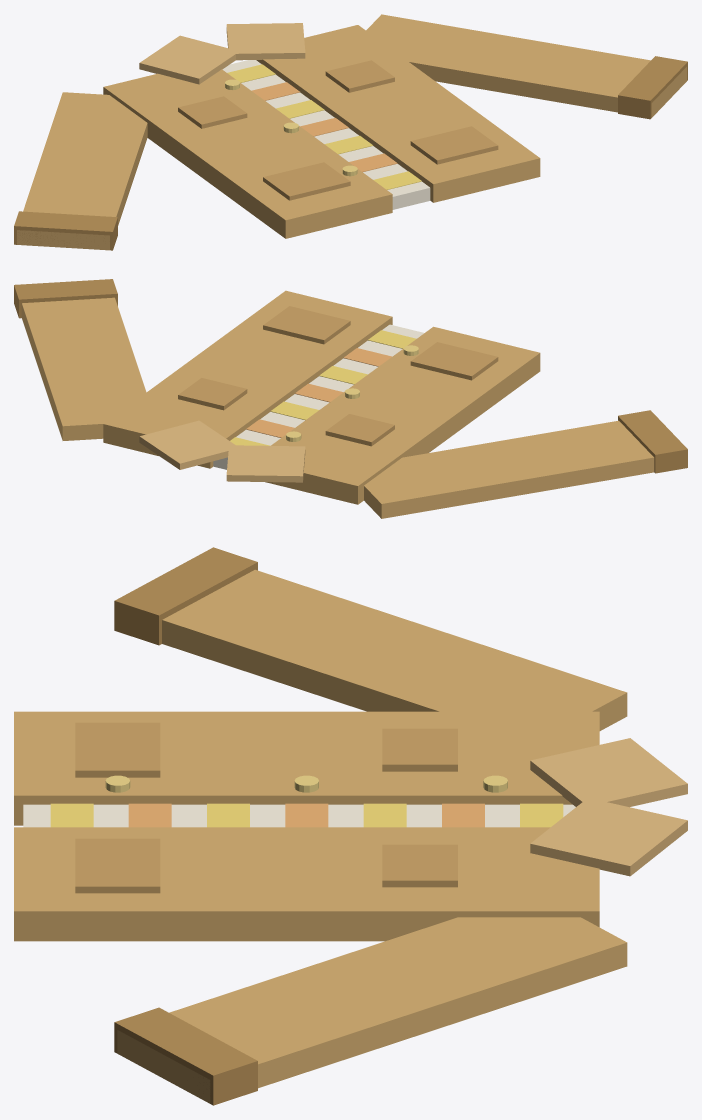
File: jaqueta_diana.glb
The picture shows the model from 3 angles, top to bottom: view 1: azimuth 30°, elevation 25°; view 2: azimuth 150°, elevation 25°; view 3: azimuth 270°, elevation 25°; orthographic projection. The views are drawn at different scales.
Visible parts, largest first — view 1: Jaqueta; view 2: Jaqueta; view 3: Jaqueta.
Part boxes in pixels (<box>): Jaqueta: <box>14,14,687,250</box>; Jaqueta: <box>14,279,687,518</box>; Jaqueta: <box>14,547,687,1105</box>.
Bounding box in the file's own units: 1.32 × 0.046 × 0.7135.
